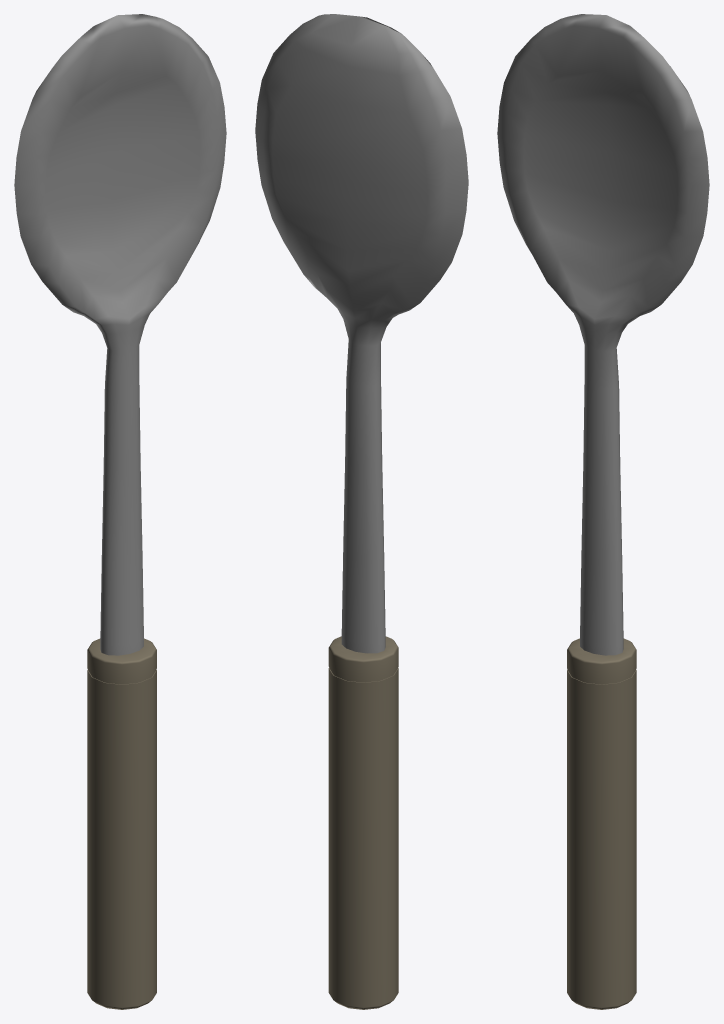
The picture shows the model from 3 angles, left to right: view 1: azimuth 30°, elevation 25°; view 2: azimuth 150°, elevation 25°; view 3: azimuth 330°, elevation 25°; orthographic projection.
Visible parts, largest first — view 1: pCylinder1; view 2: pCylinder1; view 3: pCylinder1.
Boxes of the visible parts, left/top/right/bottom form: pCylinder1: left=14, top=14, right=226, bottom=1009; pCylinder1: left=255, top=14, right=468, bottom=1009; pCylinder1: left=497, top=14, right=709, bottom=1009.
Size of the model in its own units: 1.7 by 7.5 by 0.497.
